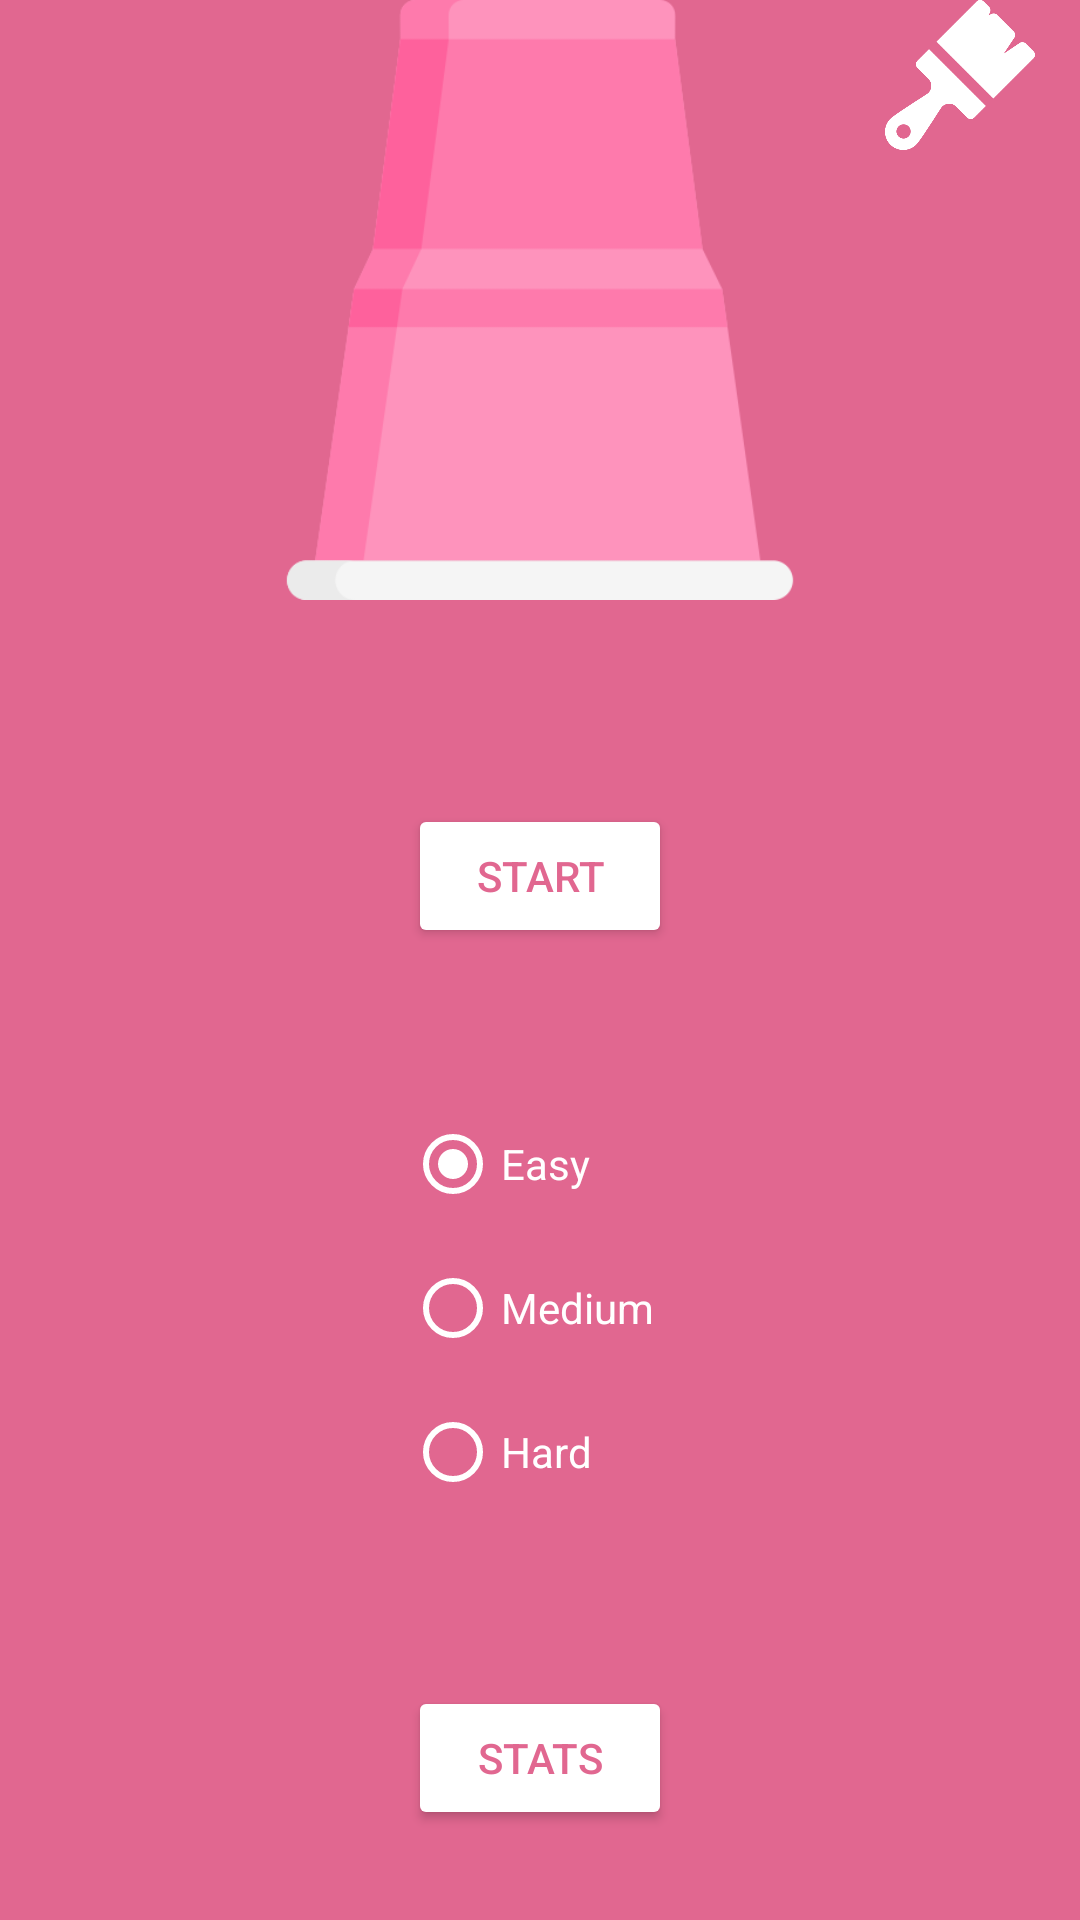

Icon click points for this 1080×1920 phone screenshot, format (x=x, y=y):
paintbrush: (x=960, y=75)
